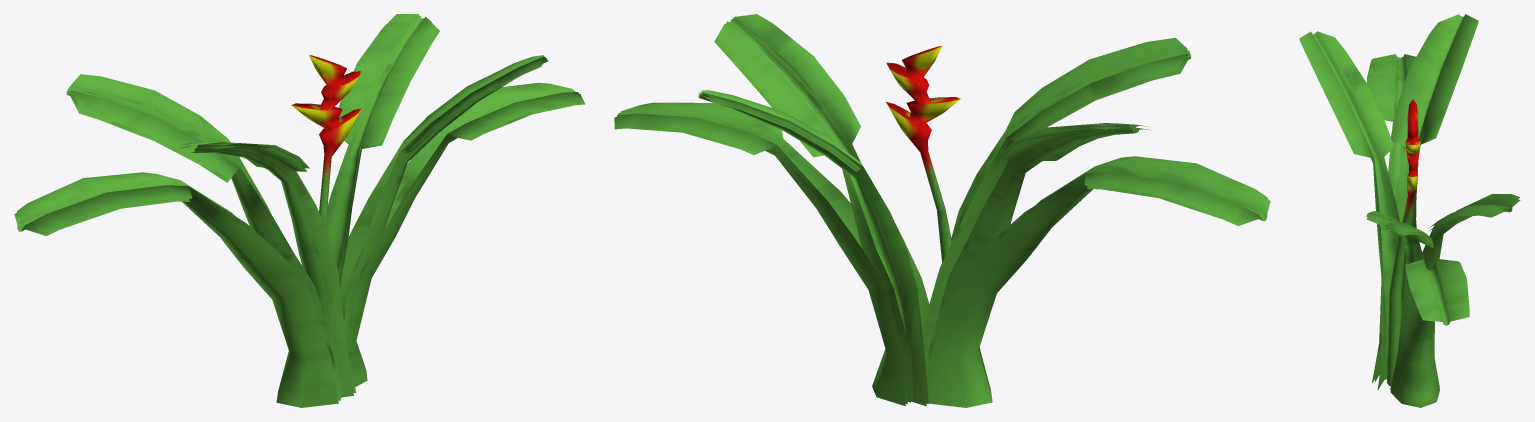
Rendered from art_3D model_environment_heliconia.fbx.
The picture shows the model from 3 angles, left to right: view 1: azimuth 30°, elevation 25°; view 2: azimuth 150°, elevation 25°; view 3: azimuth 270°, elevation 25°; orthographic projection. The views are drawn at different scales.
Parts seen in each view (by area): view 1: Cylinder; view 2: Cylinder; view 3: Cylinder.
Part boxes in pixels (<box>): Cylinder: <box>14,14,585,407</box>; Cylinder: <box>614,14,1270,407</box>; Cylinder: <box>1299,14,1520,407</box>.
Bounding box in the file's own units: 170 × 92.54 × 65.38.
1 material, 1 textured.
